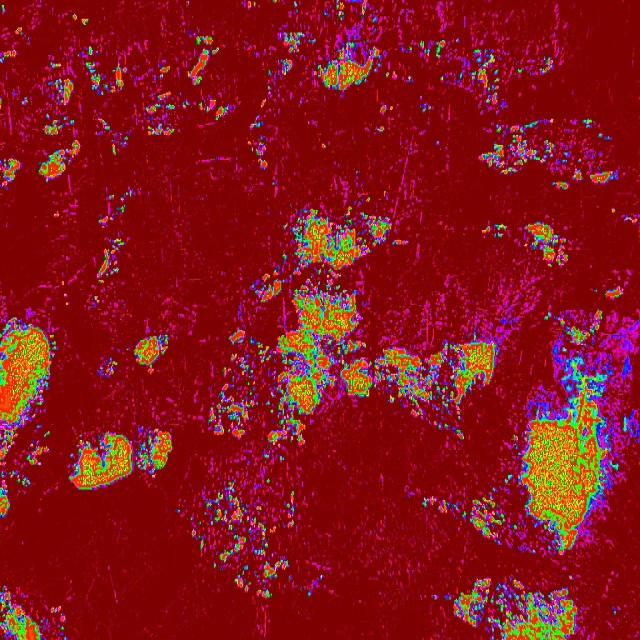fire: (208, 208, 500, 462), (512, 305, 626, 554), (189, 480, 297, 600), (0, 318, 58, 518), (478, 119, 624, 192), (144, 25, 233, 139), (457, 576, 578, 640), (67, 426, 173, 493), (457, 48, 554, 116), (315, 36, 383, 92), (461, 486, 512, 546), (77, 40, 128, 99), (0, 585, 49, 640), (522, 222, 572, 266), (36, 138, 80, 186), (96, 186, 135, 228), (94, 238, 125, 286), (131, 333, 170, 371), (95, 118, 131, 157), (275, 30, 317, 56), (420, 494, 461, 518), (0, 156, 23, 192), (246, 138, 270, 172), (431, 591, 458, 617), (47, 79, 74, 105), (40, 114, 74, 134), (418, 37, 445, 61), (610, 206, 640, 226), (96, 355, 120, 379), (54, 605, 70, 640), (604, 286, 627, 304), (258, 82, 274, 106), (332, 0, 346, 24), (356, 190, 374, 208), (278, 57, 298, 73), (70, 10, 89, 26), (376, 100, 392, 118), (250, 110, 264, 130), (371, 121, 387, 138), (356, 0, 369, 20), (2, 48, 20, 62), (14, 23, 28, 41), (288, 0, 300, 18), (418, 102, 432, 116), (90, 296, 101, 312), (438, 71, 447, 90), (244, 0, 258, 11), (304, 587, 314, 601), (500, 224, 510, 238), (502, 471, 512, 485), (316, 571, 326, 584), (175, 506, 184, 520), (372, 16, 379, 34), (320, 9, 330, 21), (19, 96, 32, 105), (405, 74, 415, 85), (611, 606, 620, 618), (318, 140, 330, 149), (590, 286, 600, 296), (406, 44, 416, 54), (382, 70, 392, 80), (0, 0, 7, 14), (265, 67, 275, 75), (453, 36, 461, 46), (434, 140, 441, 148), (270, 0, 280, 5)
